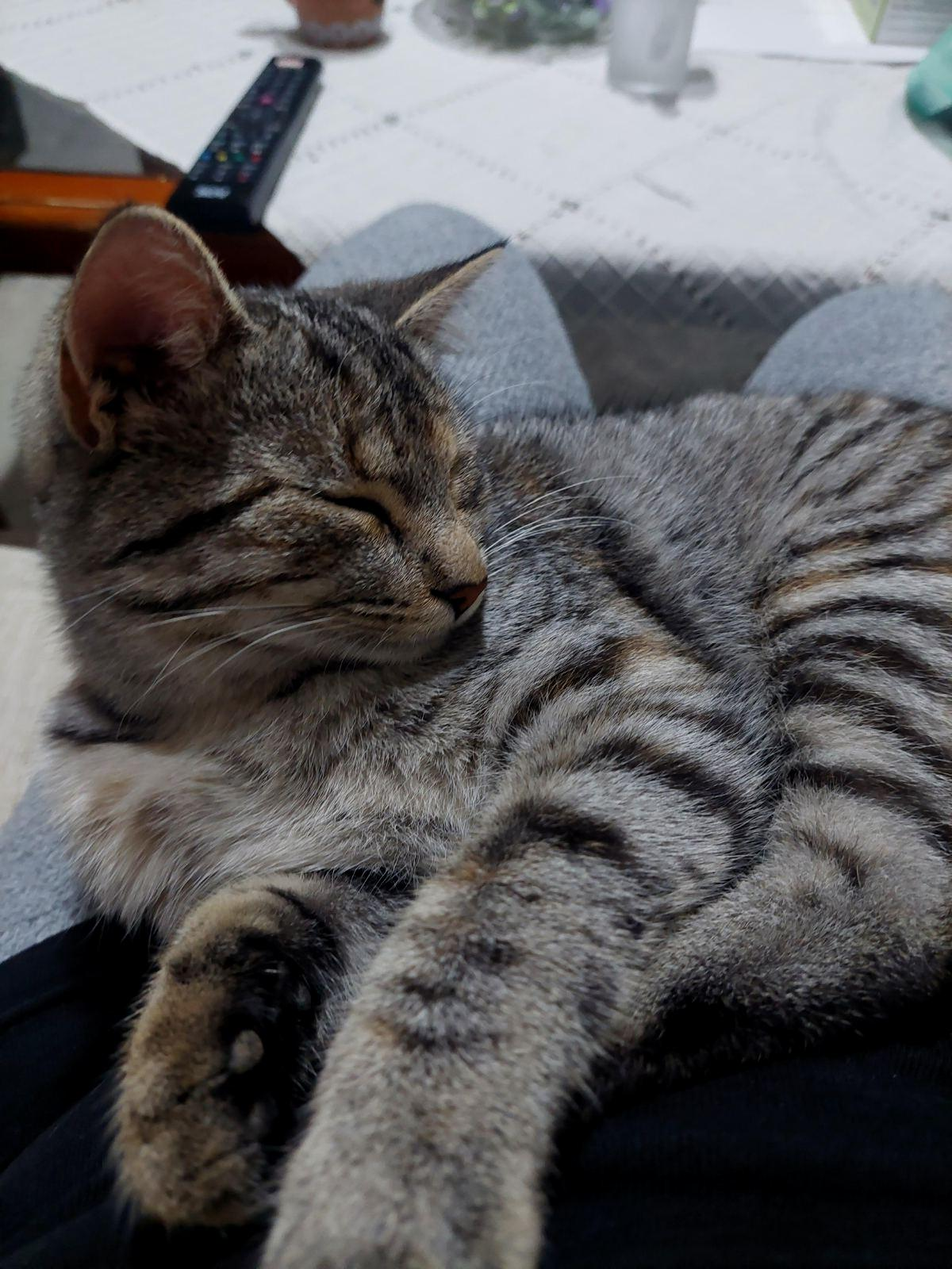macka: (44, 201, 952, 1269)
